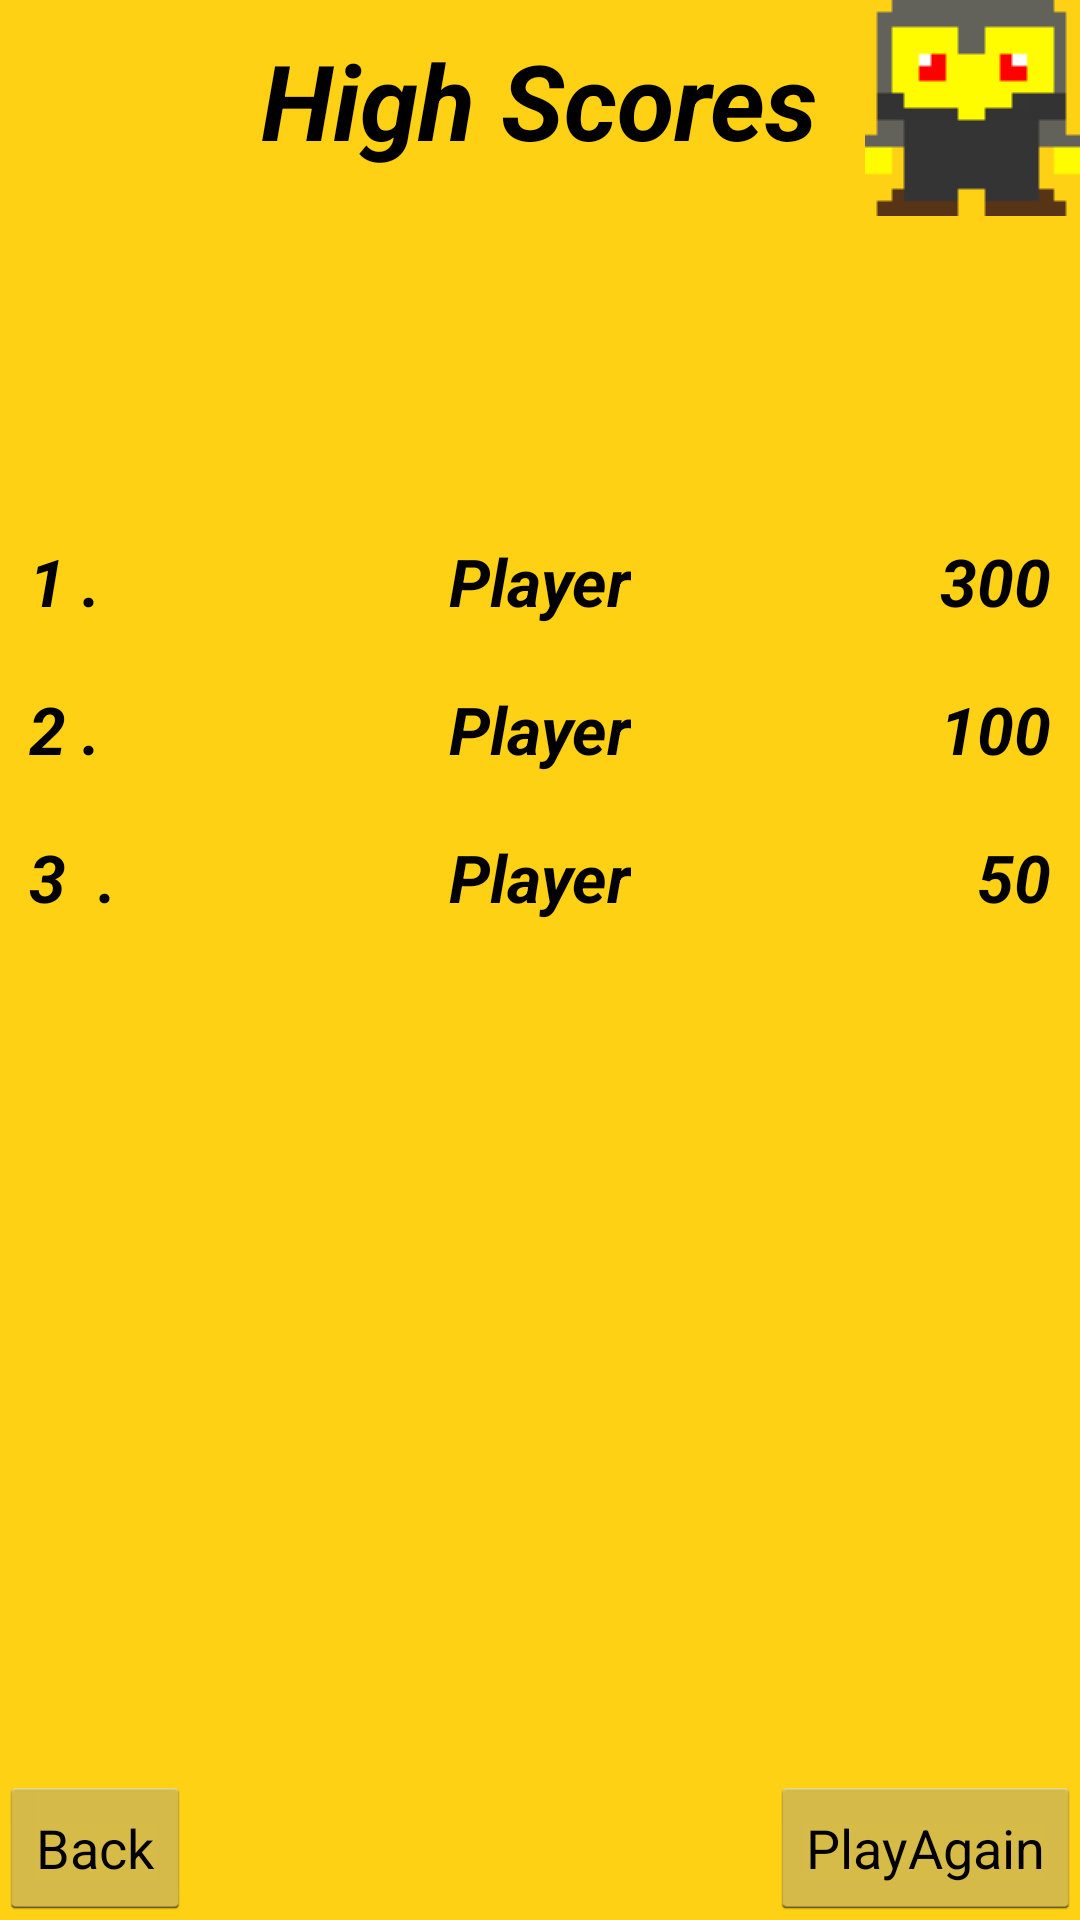

Screen size 1080px×1920px. Icon name, then its center in pixels as (x,y):
warrior: (972,108)
